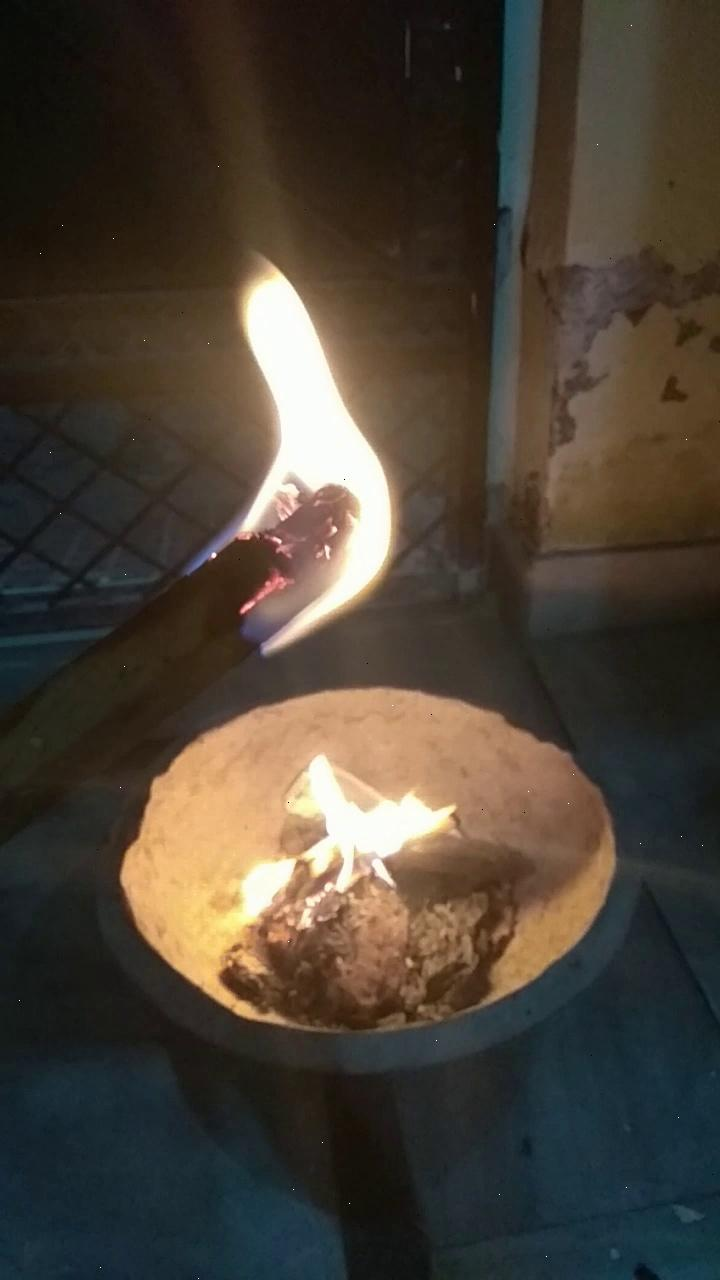fire: (201, 192, 410, 696), (225, 743, 467, 937)
